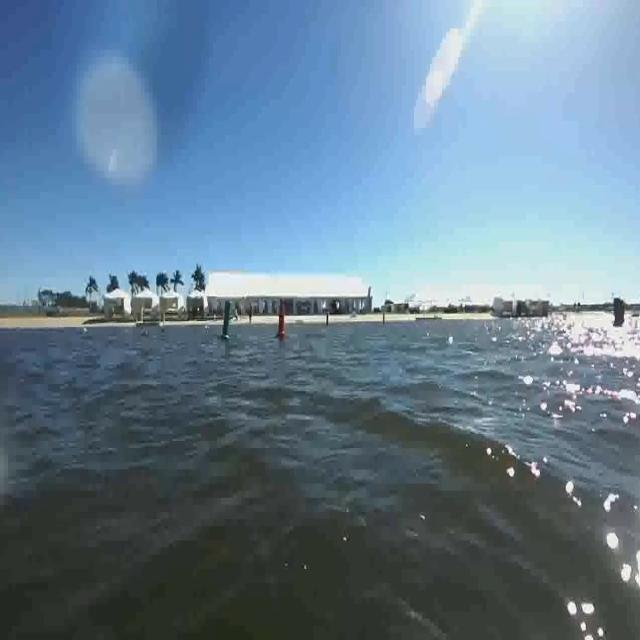green-column-buoy: (218, 302, 234, 344)
red-column-buoy: (276, 302, 289, 342)
